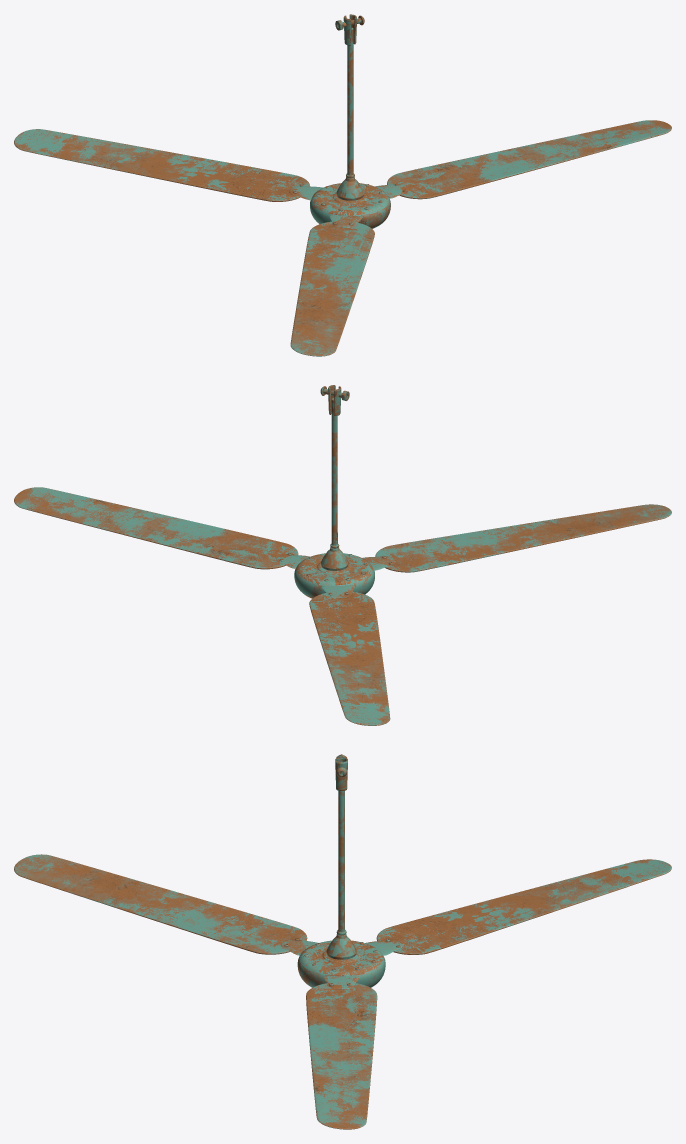
The model's file is celing_fan.glb.
3 renders of one model, top to bottom at view 1: azimuth 30°, elevation 25°; view 2: azimuth 150°, elevation 25°; view 3: azimuth 270°, elevation 25°, orthographic. The views are drawn at different scales.
Visible parts, largest first — view 1: Cylinder_Material_005_0.004_5, Cylinder_Material_005_0.009_10, Cylinder_Material_005_0.002_3, Cylinder_002_fam_material_0_14, Cylinder_Material_005_0.006_7; view 2: Cylinder_Material_005_0.004_5, Cylinder_Material_005_0.009_10, Cylinder_Material_005_0.002_3, Cylinder_002_fam_material_0_14, Cylinder_Material_005_0.006_7; view 3: Cylinder_Material_005_0.004_5, Cylinder_Material_005_0.002_3, Cylinder_Material_005_0.009_10, Cylinder_002_fam_material_0_14, Cylinder_Material_005_0.006_7.
Boxes of the visible parts, bbox=[...] form: Cylinder_Material_005_0.004_5: bbox=[312, 120, 671, 215]; Cylinder_Material_005_0.009_10: bbox=[14, 129, 322, 201]; Cylinder_Material_005_0.002_3: bbox=[290, 214, 374, 356]; Cylinder_002_fam_material_0_14: bbox=[335, 14, 364, 200]; Cylinder_Material_005_0.006_7: bbox=[310, 184, 390, 228]; Cylinder_Material_005_0.004_5: bbox=[14, 487, 373, 585]; Cylinder_Material_005_0.009_10: bbox=[280, 560, 390, 725]; Cylinder_Material_005_0.002_3: bbox=[362, 504, 671, 572]; Cylinder_002_fam_material_0_14: bbox=[320, 385, 349, 570]; Cylinder_Material_005_0.006_7: bbox=[294, 554, 374, 598]; Cylinder_Material_005_0.004_5: bbox=[299, 940, 383, 1129]; Cylinder_Material_005_0.002_3: bbox=[14, 854, 317, 955]; Cylinder_Material_005_0.009_10: bbox=[365, 859, 671, 955]; Cylinder_002_fam_material_0_14: bbox=[326, 754, 356, 959]; Cylinder_Material_005_0.006_7: bbox=[297, 950, 385, 987].
Bounding box in the file's own units: 1.48 × 0.56 × 1.51.
Materials: 2 (2 with a texture image).
